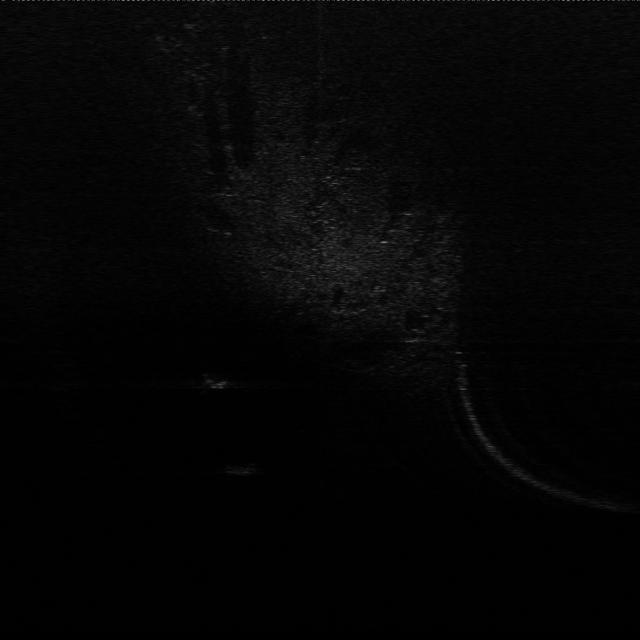cube: (220, 452, 264, 478)
square cage: (202, 372, 238, 392)
